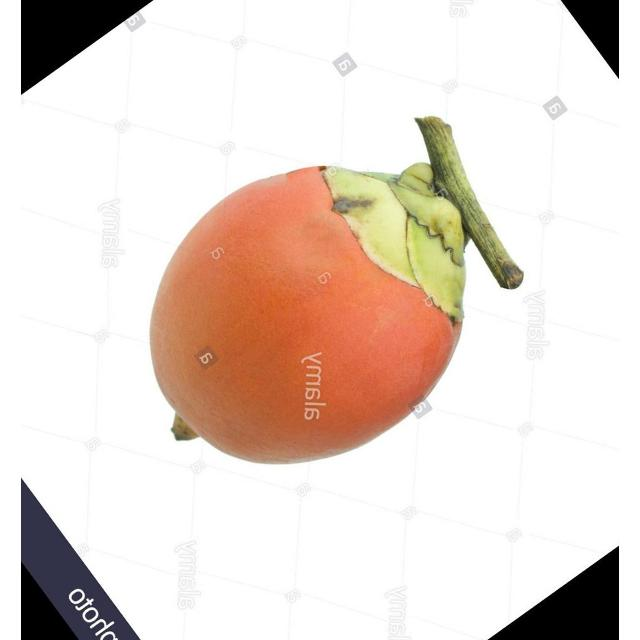good: (149, 164, 476, 467)
